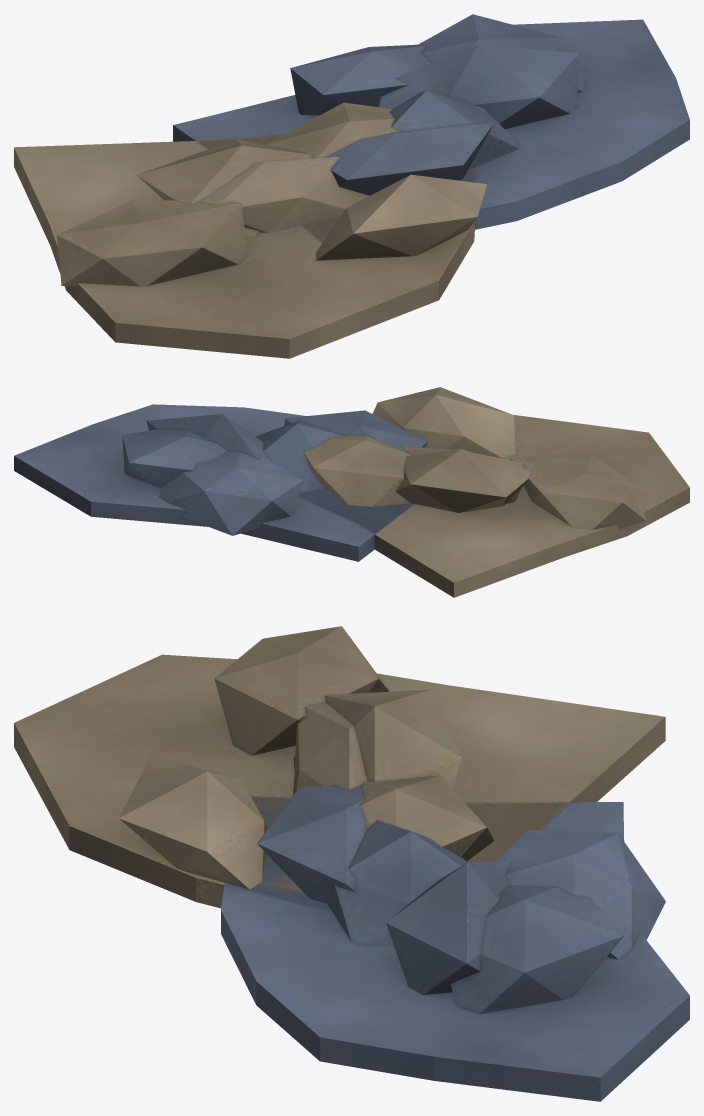
File: rags_idle.glb
The picture shows the model from 3 angles, top to bottom: view 1: azimuth 30°, elevation 25°; view 2: azimuth 150°, elevation 25°; view 3: azimuth 270°, elevation 25°; orthographic projection. The views are drawn at different scales.
Visible parts, largest first — view 1: rags; view 2: rags; view 3: rags.
Part boxes in pixels (x1,y1,x2,y2): rags: (14,14,689,358); rags: (14,387,689,597); rags: (14,626,689,1101).
Size of the model in its own units: 0.4502 by 0.0658 by 0.304.
1 material, 1 textured.
